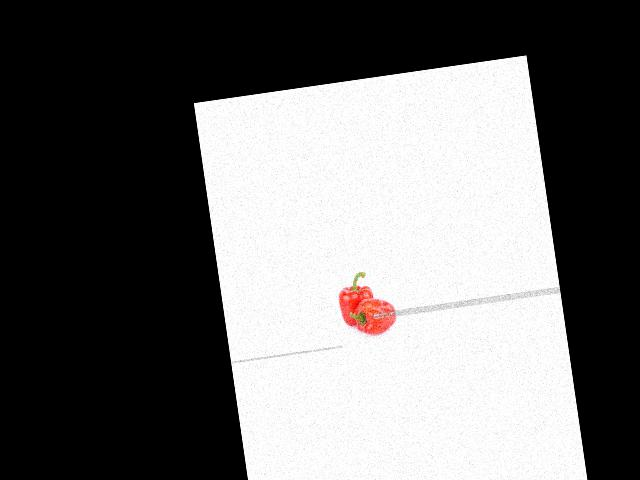bell_pepper: (348, 291, 403, 337)
